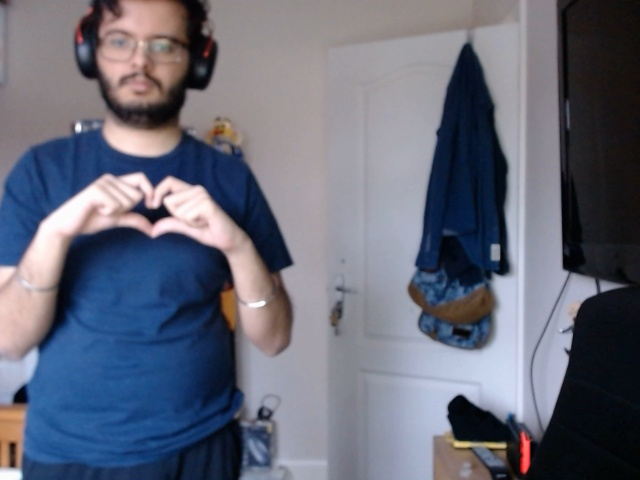Heart: (81, 171, 208, 251)
